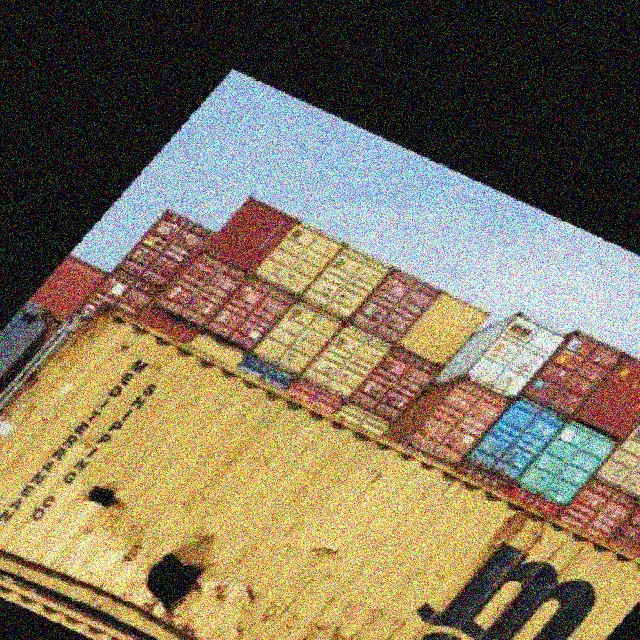Hole: (133, 547, 224, 632), (66, 478, 140, 531)
